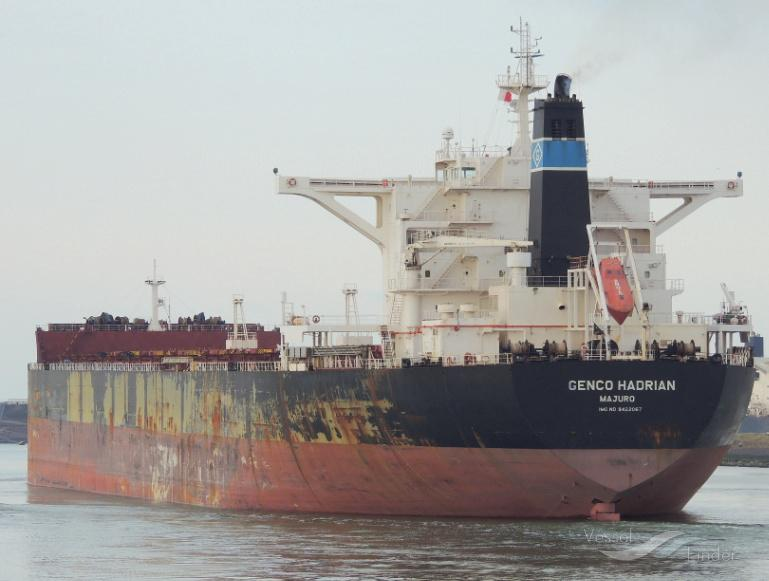OCR: (556, 373, 688, 423)
